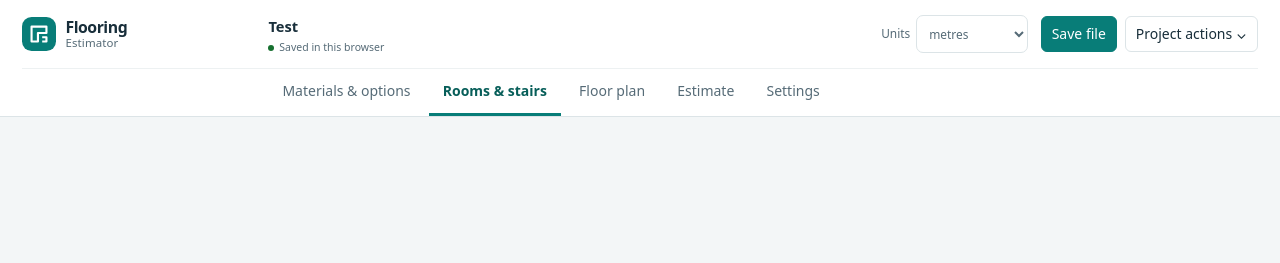
Test case: TopBar › closes the project actions with Escape
This screenshot has width=1280, height=263.
Click the button "Project actions ⌄" at {"x": 1191, "y": 34}, box [1125, 16, 1258, 52]
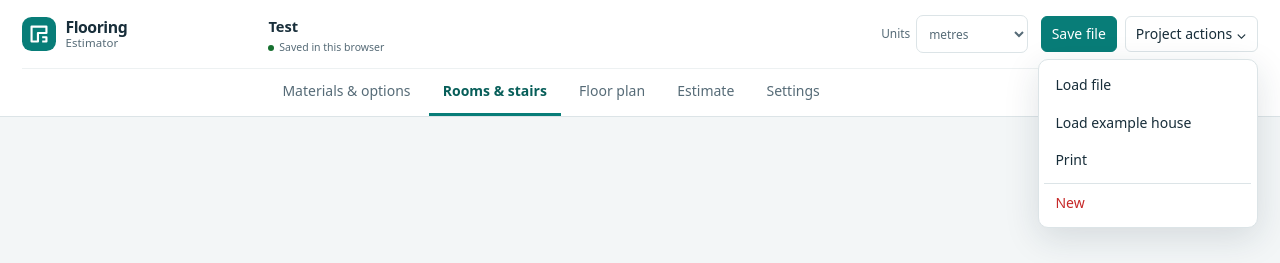
Expected: the button "Load file" is shown, [1044, 65, 1251, 103]
Press Escape
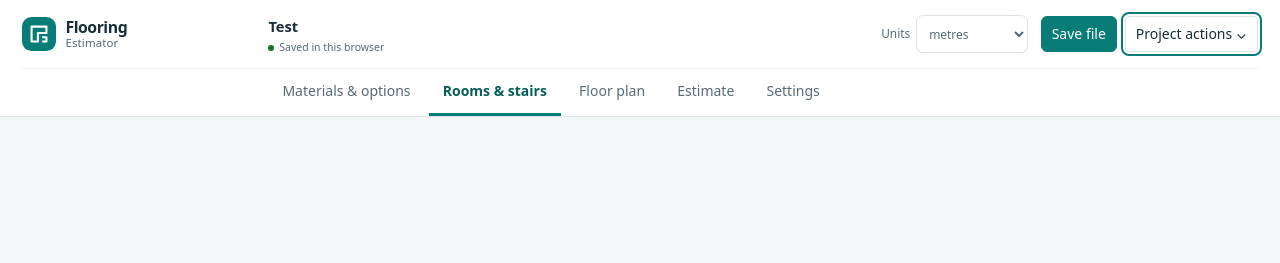
Expected: the button "Load file" is gone
